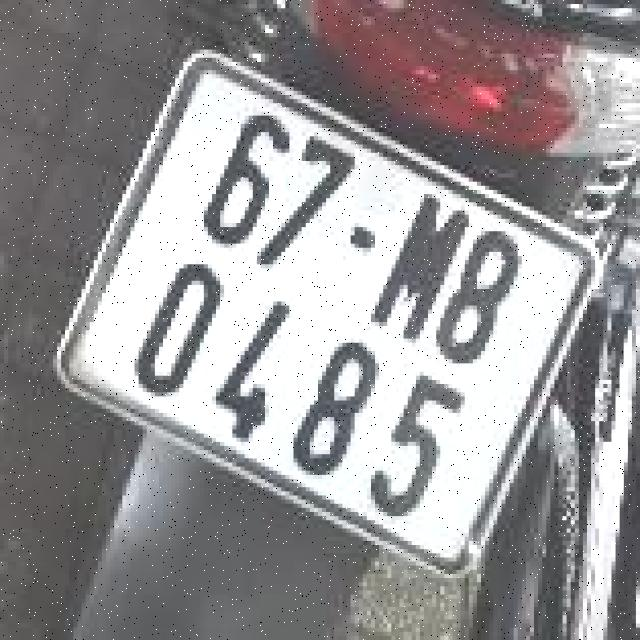0: (123, 244, 238, 409)
4: (202, 283, 321, 452)
5: (352, 360, 480, 531)
6: (189, 92, 310, 259)
7: (243, 116, 373, 287)
8: (278, 323, 402, 488), (430, 216, 539, 377)
M: (363, 175, 489, 353)
